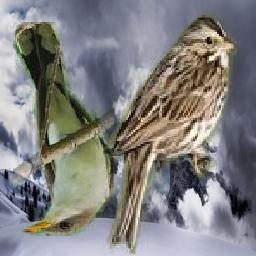Cuckoo: (14, 22, 115, 236)
Sparrow: (103, 11, 237, 255)
